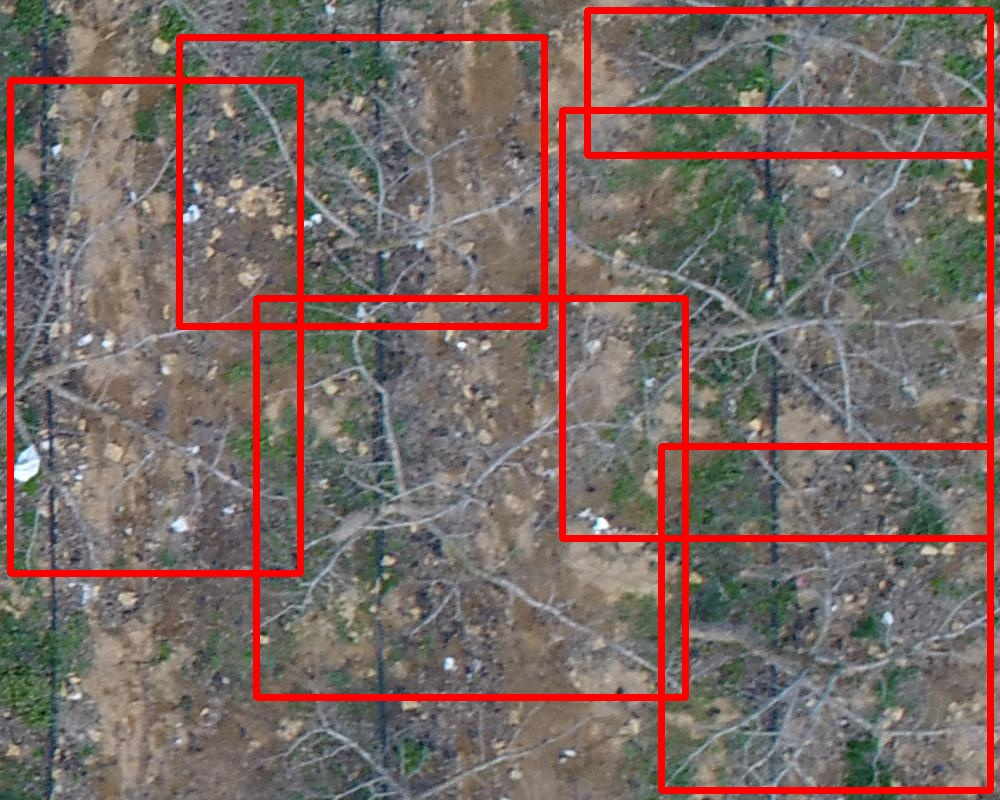apple: (562, 110, 990, 538), (256, 298, 685, 697), (10, 80, 300, 573), (661, 446, 990, 790), (179, 37, 544, 326), (587, 10, 990, 155)
